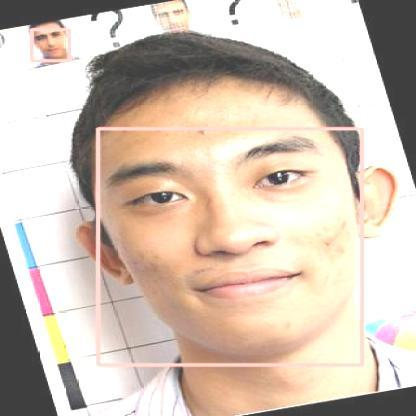without_mask: (98, 129, 362, 365), (31, 29, 69, 60)
